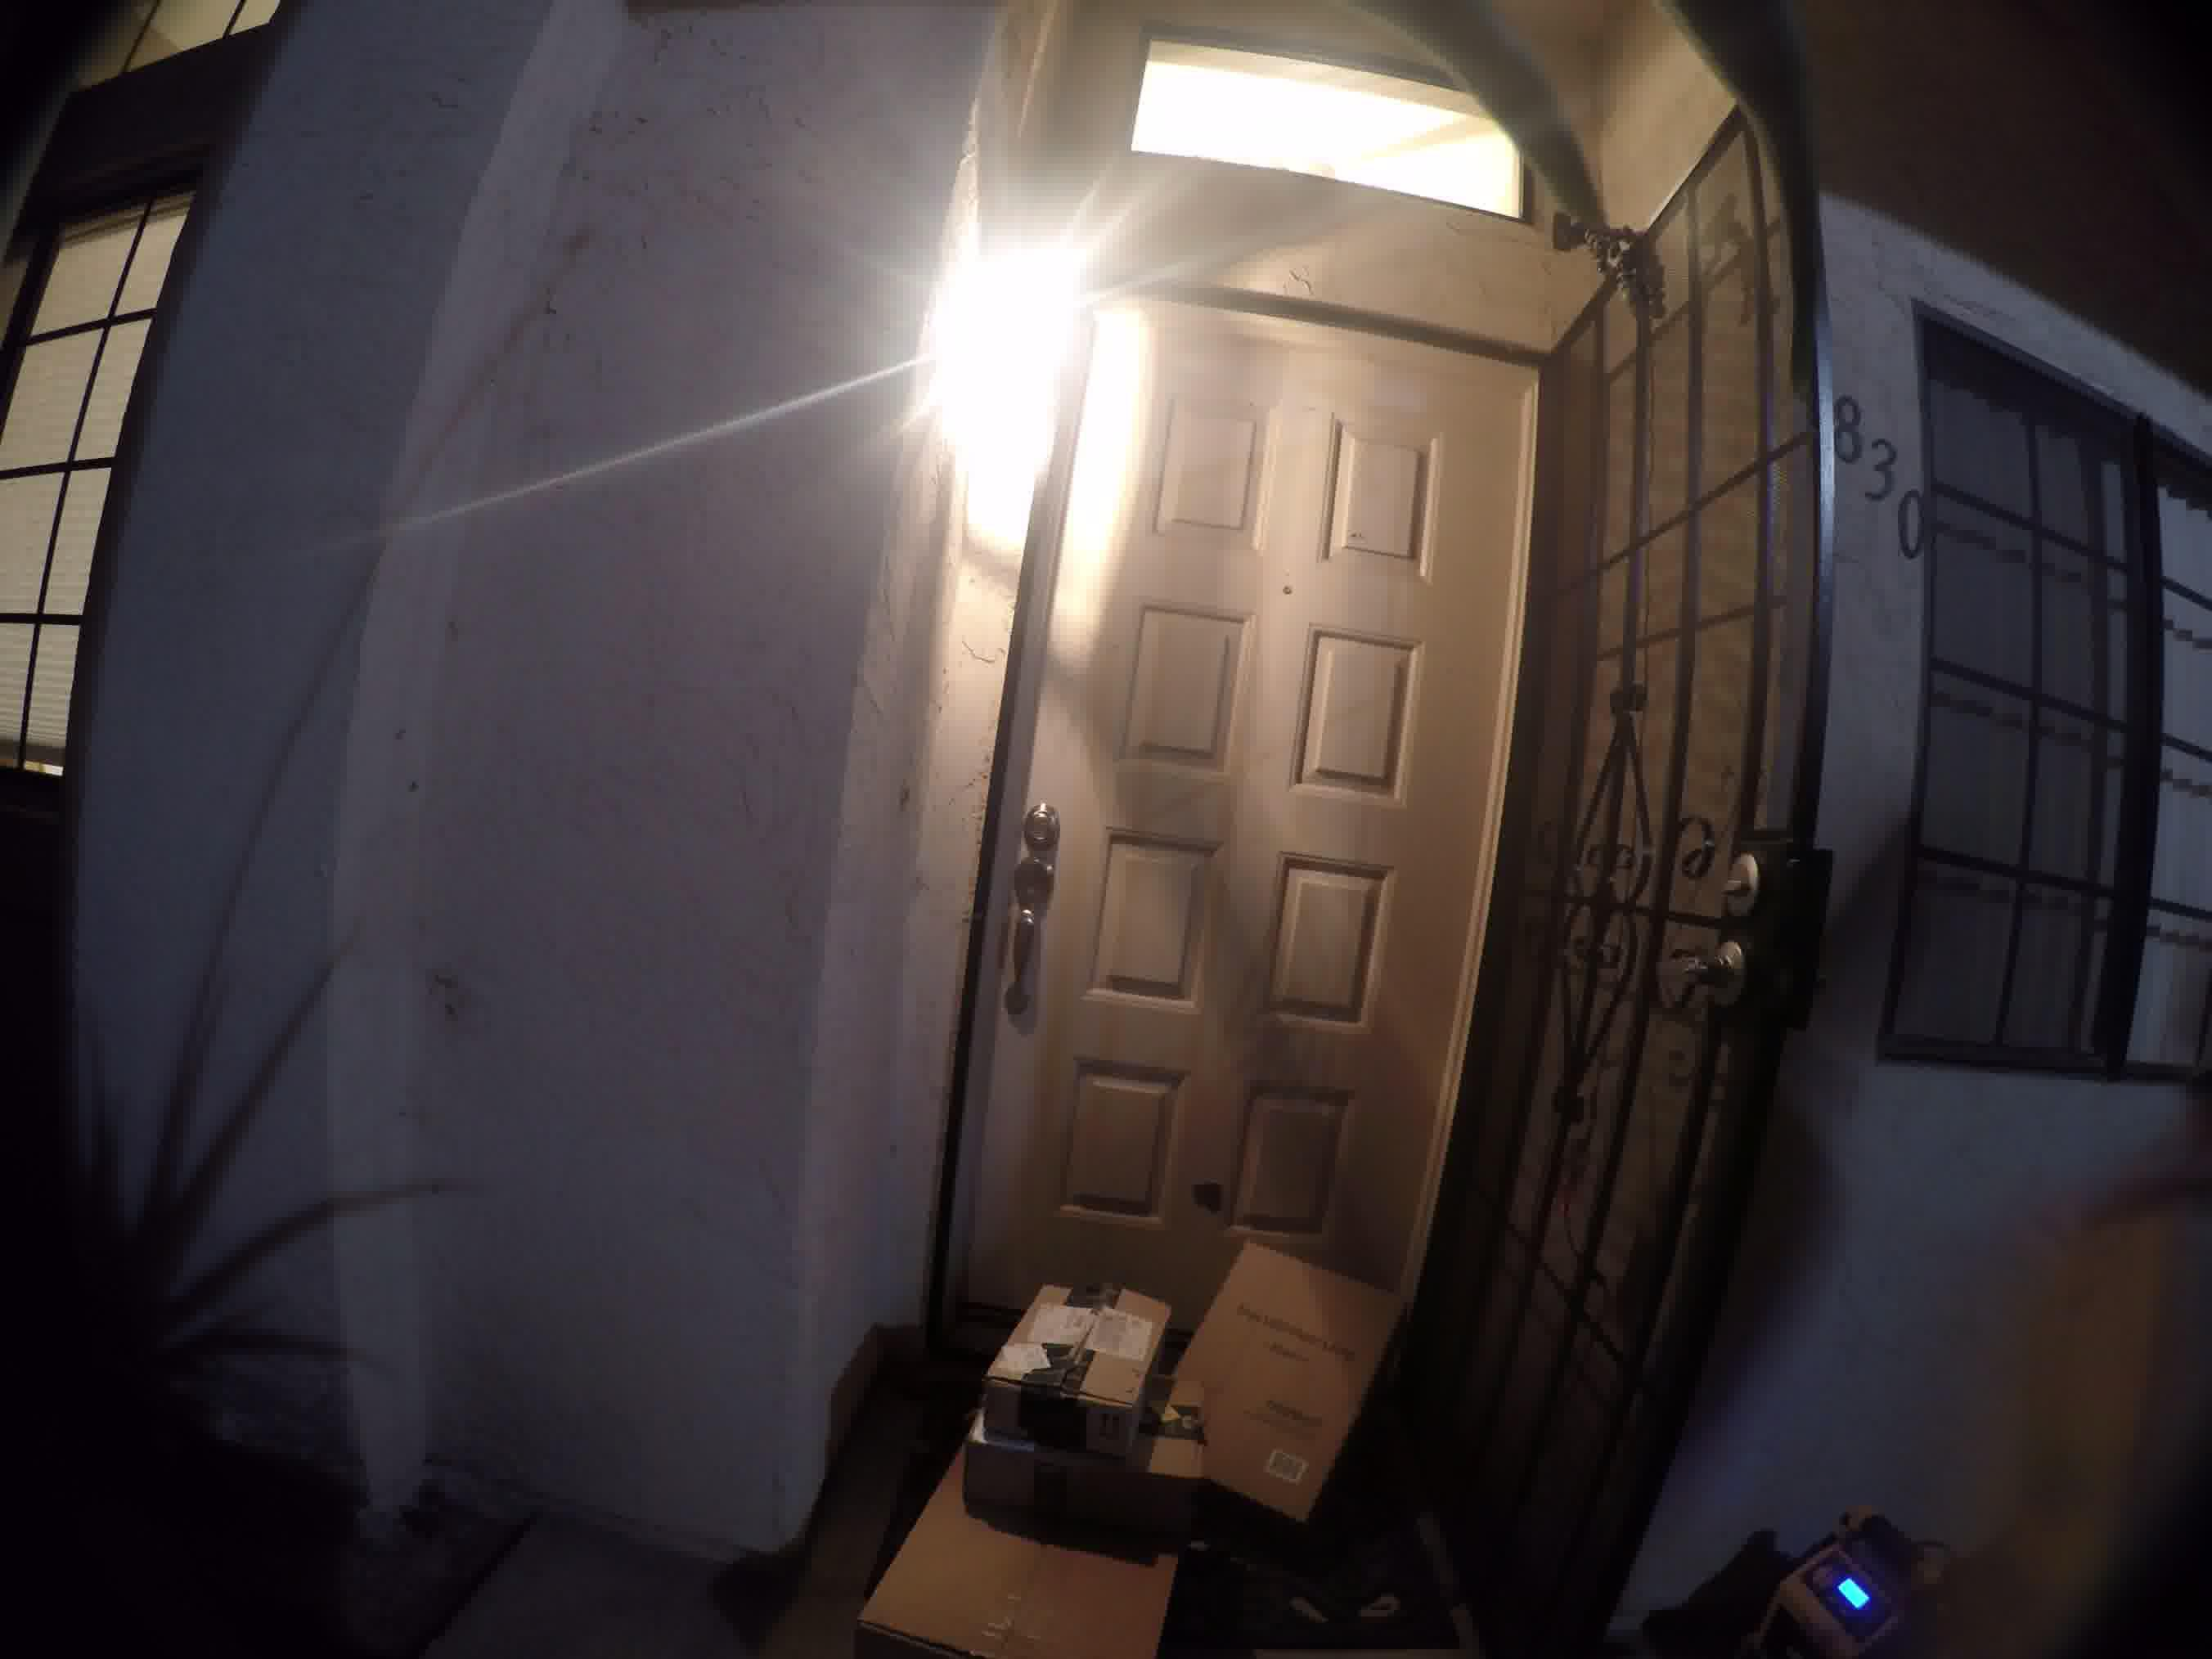box: (1186, 1194, 1407, 1528), (960, 1246, 1170, 1523)
